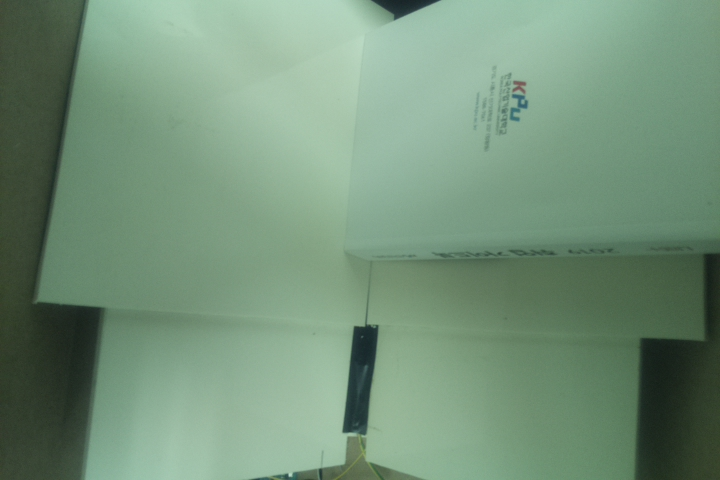book: (341, 1, 720, 266)
